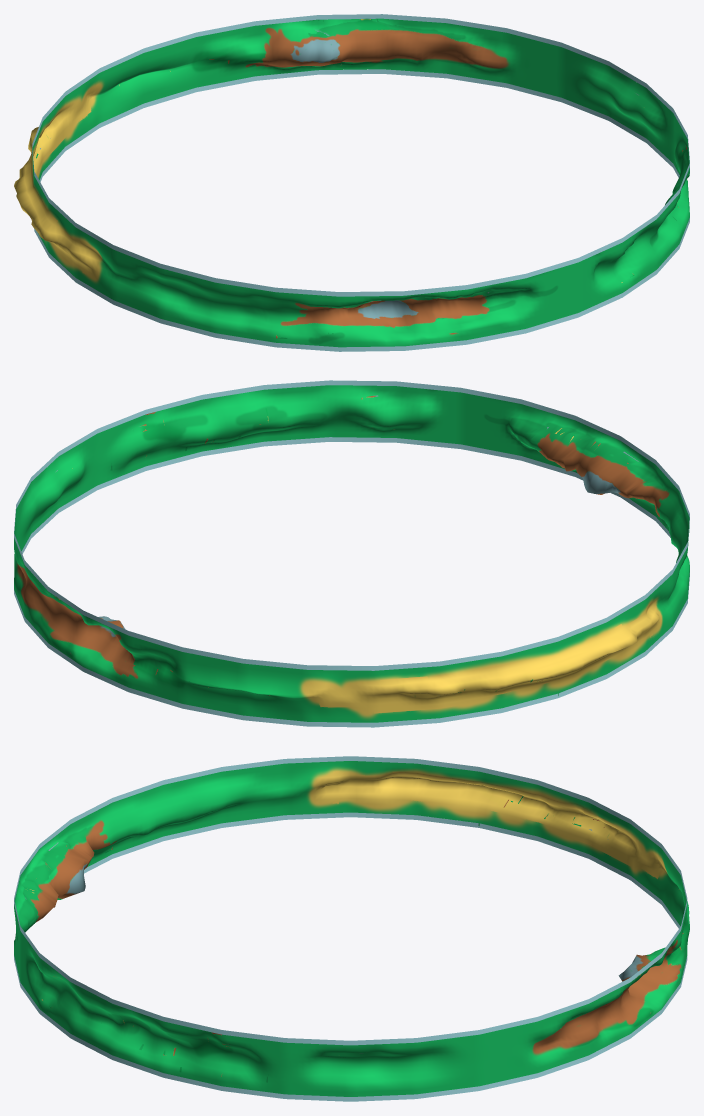
File: HalohollowSculptTry2.fbx
The picture shows the model from 3 angles, top to bottom: view 1: azimuth 30°, elevation 25°; view 2: azimuth 150°, elevation 25°; view 3: azimuth 270°, elevation 25°; orthographic projection. The views are drawn at different scales.
Parts seen in each view (by area): view 1: Cylinder; view 2: Cylinder; view 3: Cylinder.
Part boxes in pixels (x1=…): Cylinder: x1=14, y1=14, x2=689, y2=351; Cylinder: x1=14, y1=380, x2=689, y2=727; Cylinder: x1=14, y1=756, x2=689, y2=1101.
Size of the model in its own units: 20.42 by 2 by 20.08.
Materials: 1 (1 with a texture image).
